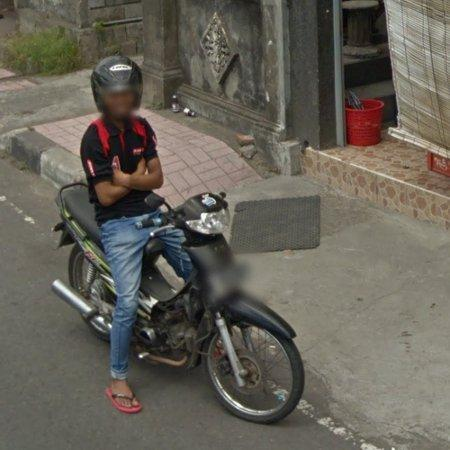motorcycles: (134, 194, 305, 423), (52, 183, 116, 339)
